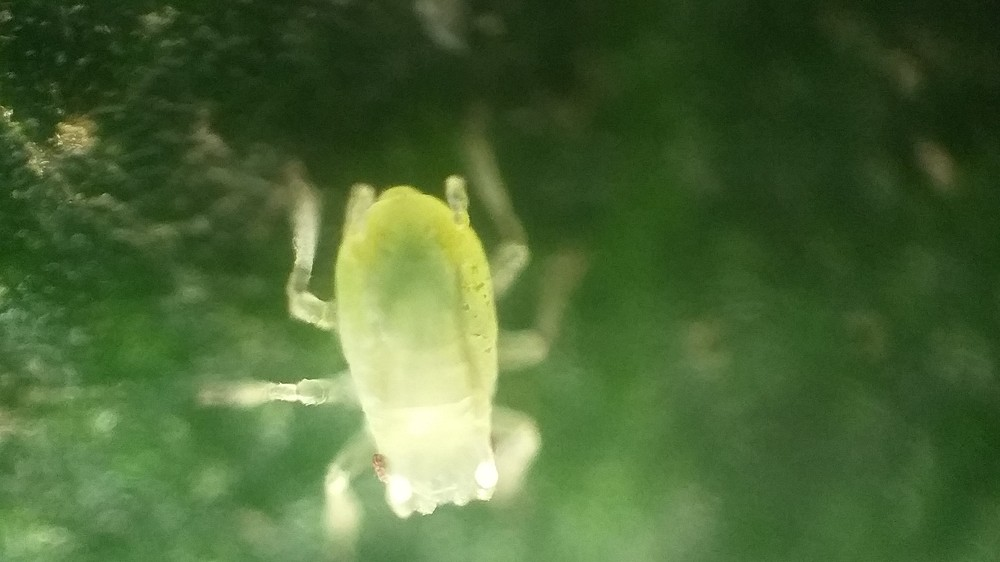Pulgon: (233, 141, 634, 556)
